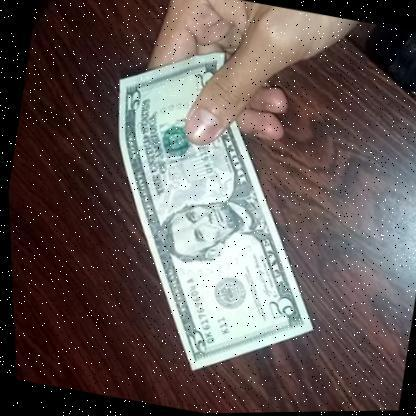five-front: (60, 27, 366, 396)
